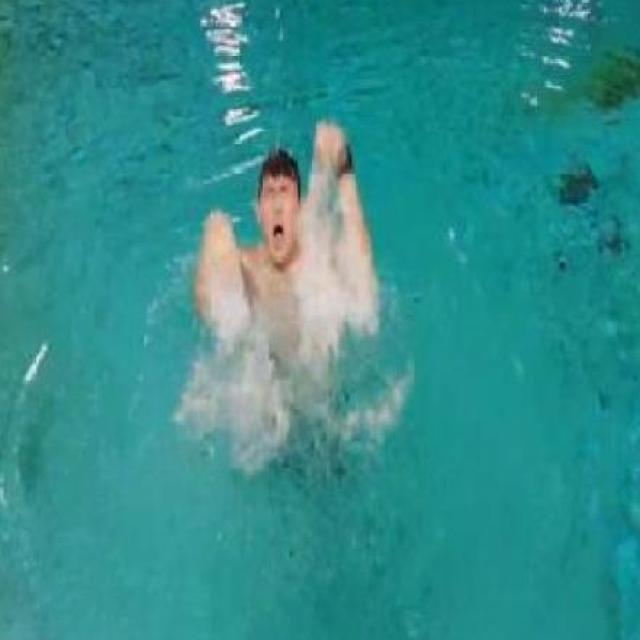Drowning: (193, 123, 386, 382)
